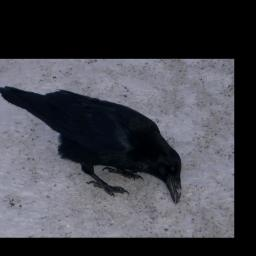Crow: (0, 86, 181, 204)
